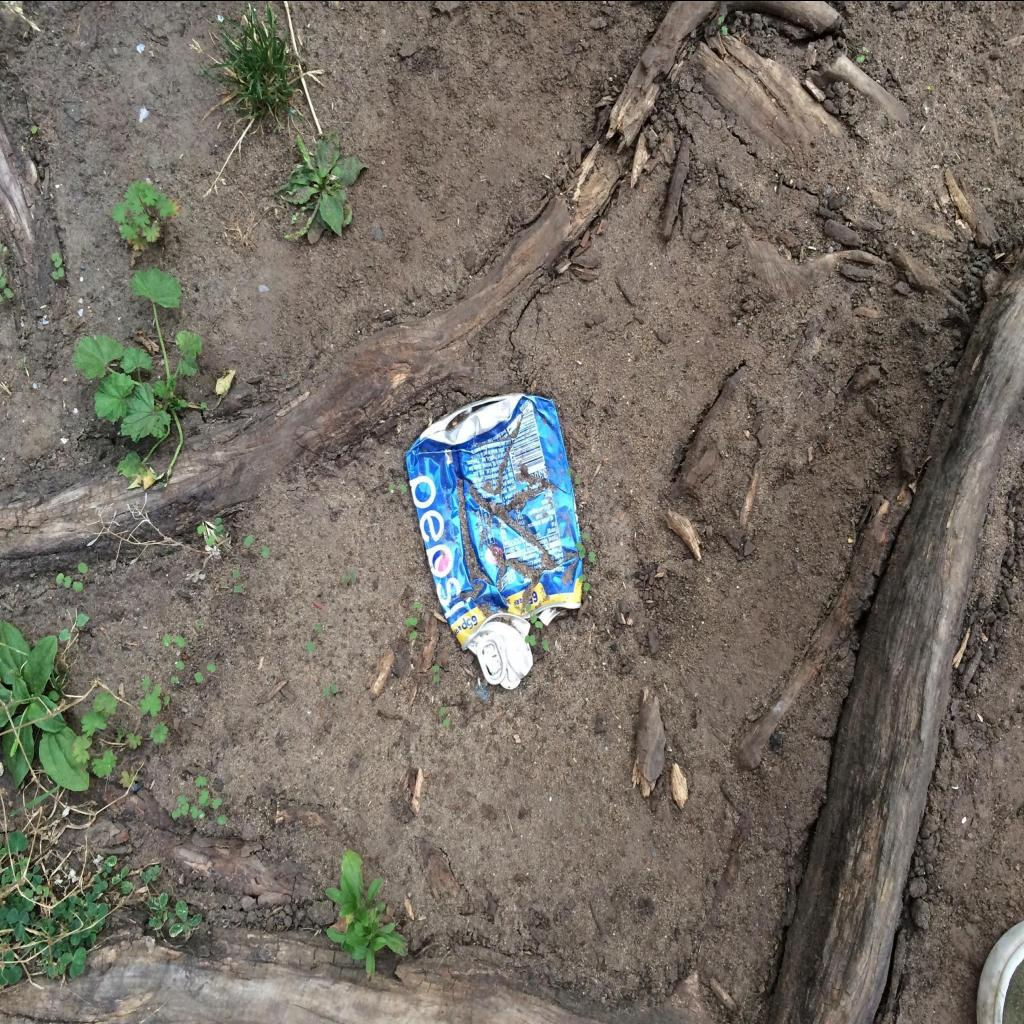Drink can: (404, 392, 582, 688)
Pop tab: (476, 632, 506, 684)
